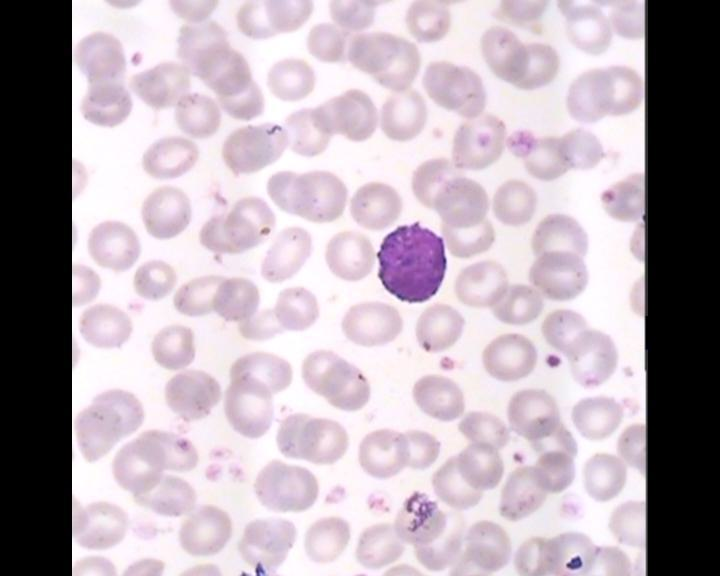baso: (373, 214, 452, 307)
